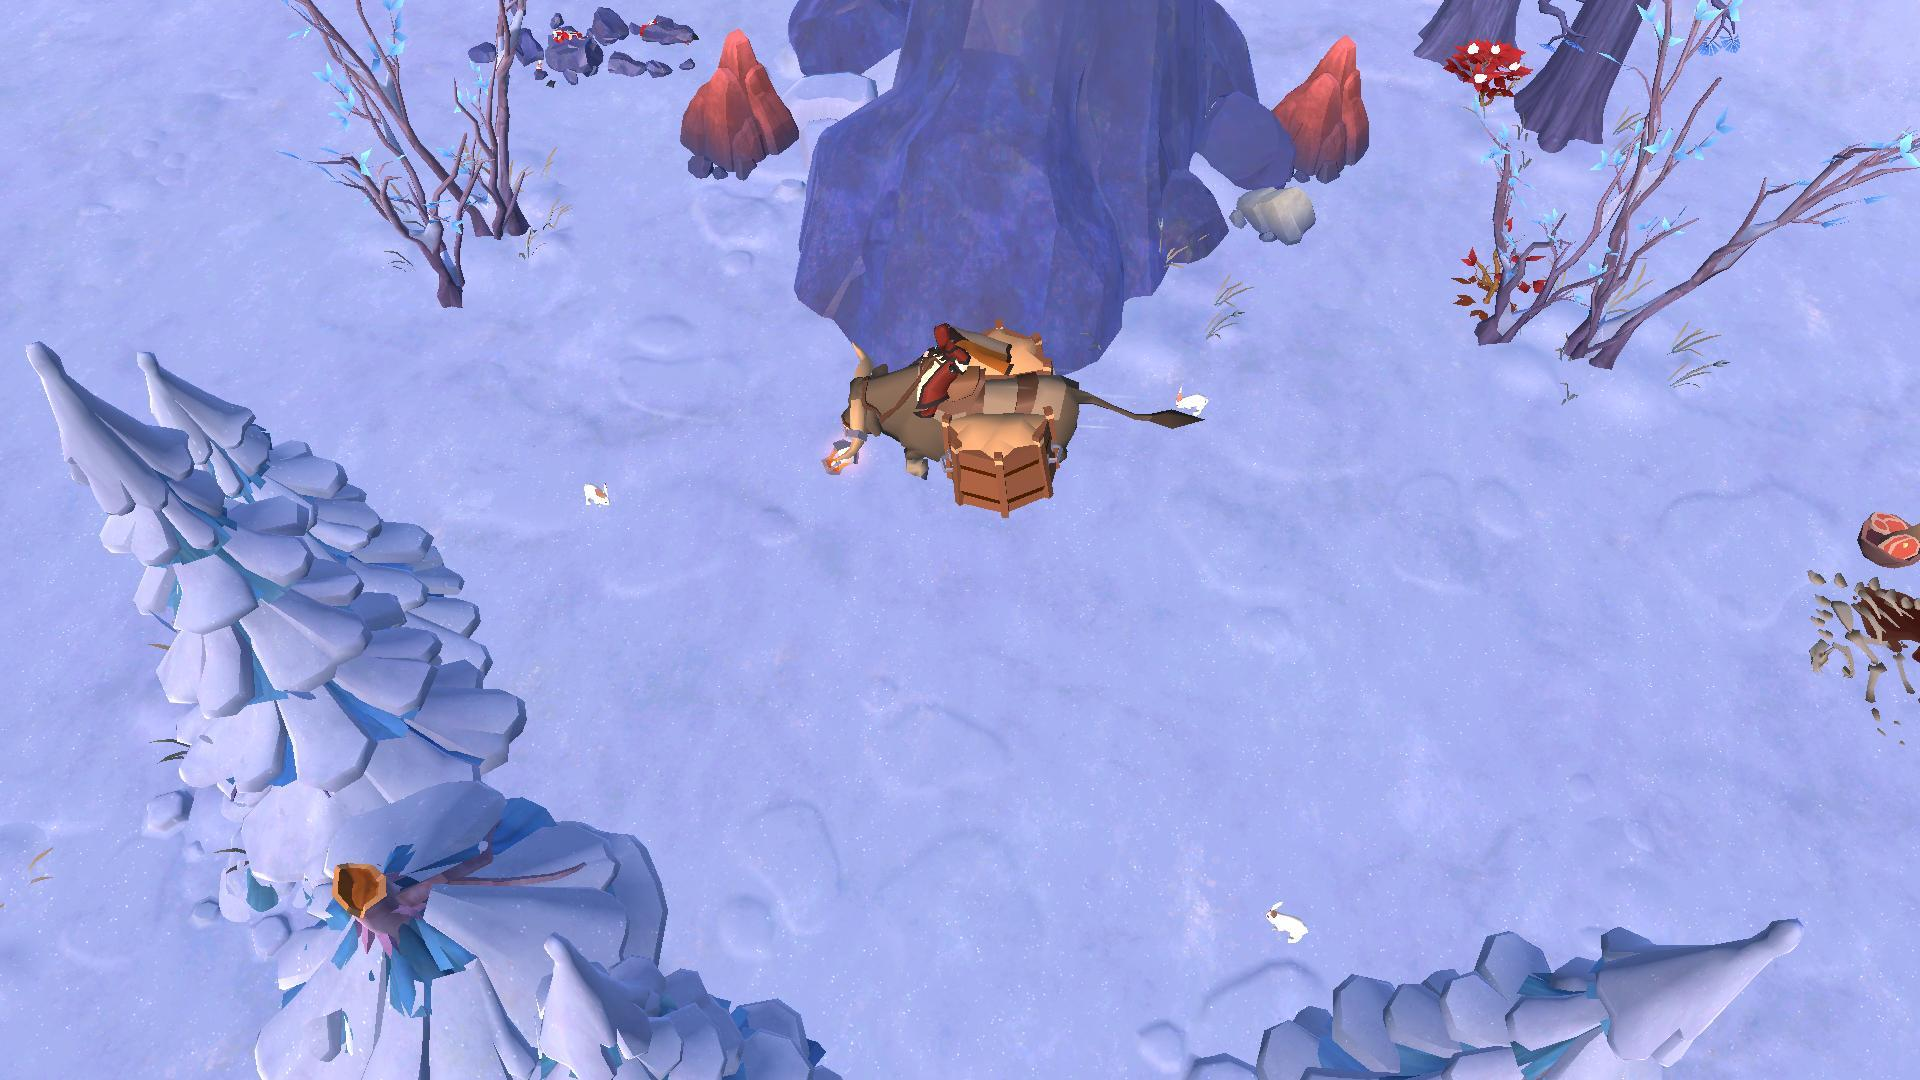fiber_t5: (1444, 36, 1538, 108)
rock_t5: (671, 29, 804, 177), (1244, 37, 1373, 186)
